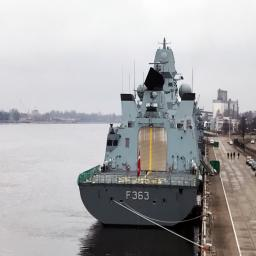Fragata: (78, 36, 208, 229)
